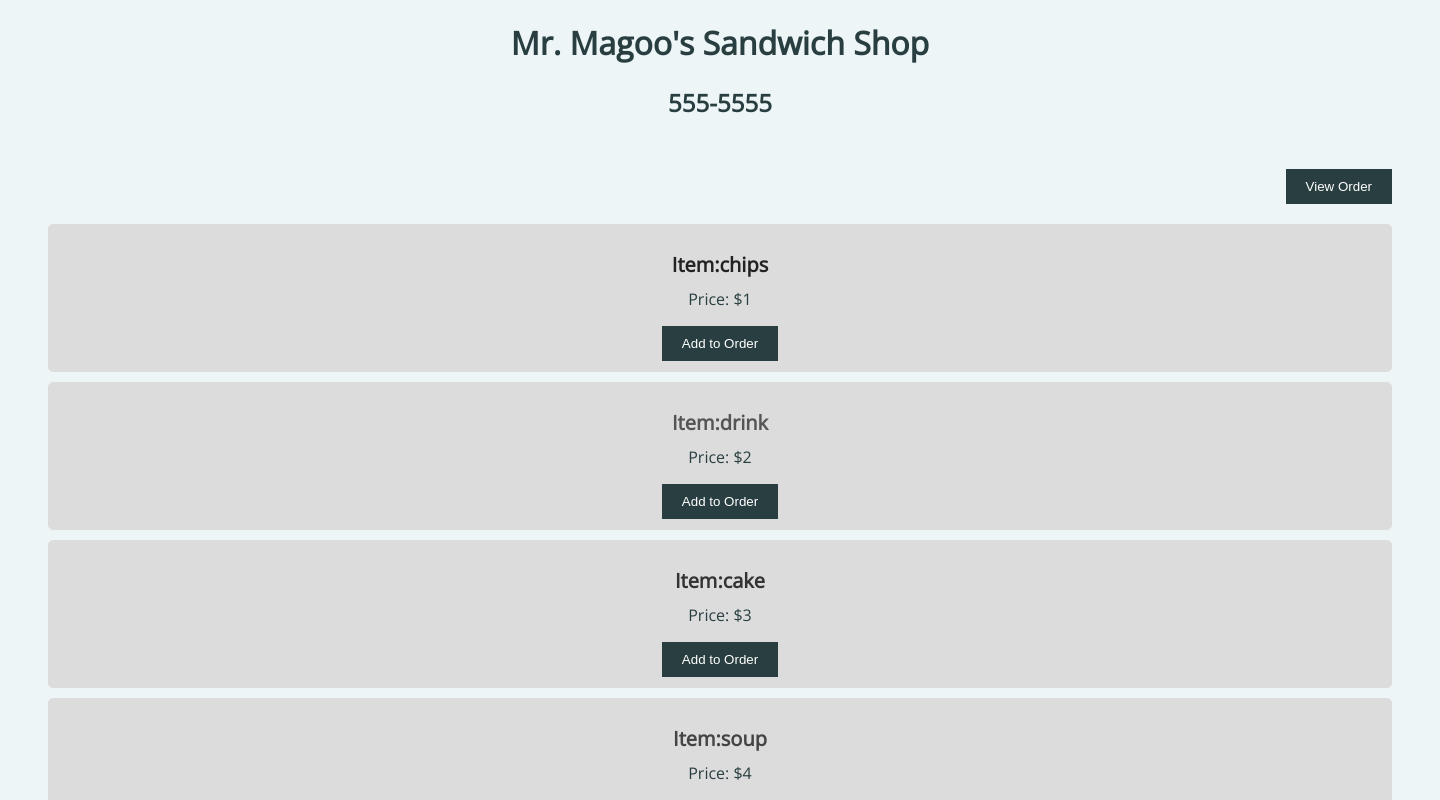
Test: view order
Click the button "View Order".
click(1339, 186)  # box [1286, 169, 1392, 204]
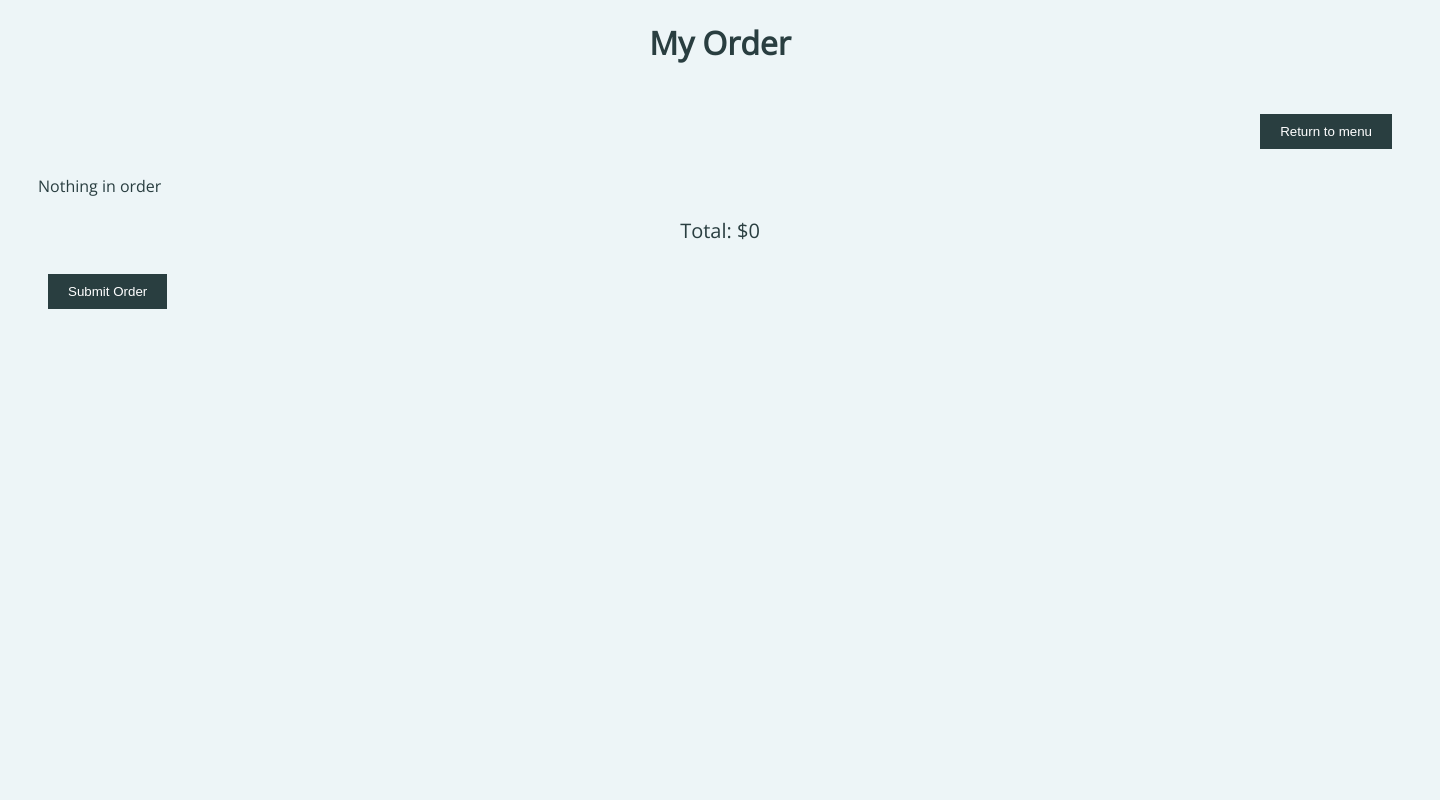
Check: the heading "My Order" is shown, box [649, 21, 791, 64]
